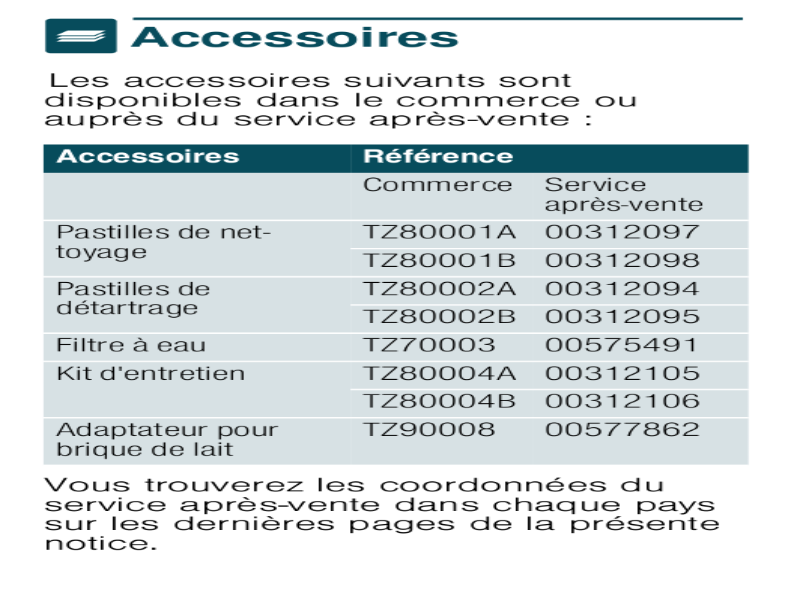borderless: (31, 134, 776, 469)
cell: (52, 222, 280, 267), (50, 278, 278, 323), (51, 421, 280, 460), (539, 174, 708, 215), (48, 334, 277, 357), (48, 362, 277, 385), (54, 146, 245, 167), (358, 146, 515, 168), (359, 175, 517, 196), (361, 222, 519, 243), (360, 250, 518, 271), (361, 279, 519, 300), (360, 306, 518, 327), (359, 335, 517, 356), (359, 362, 517, 383), (358, 391, 516, 412), (358, 420, 516, 441), (544, 220, 702, 241), (544, 250, 702, 271), (544, 279, 702, 300), (544, 306, 702, 327), (545, 335, 703, 356), (545, 362, 703, 383), (544, 390, 702, 411), (544, 419, 702, 440)
